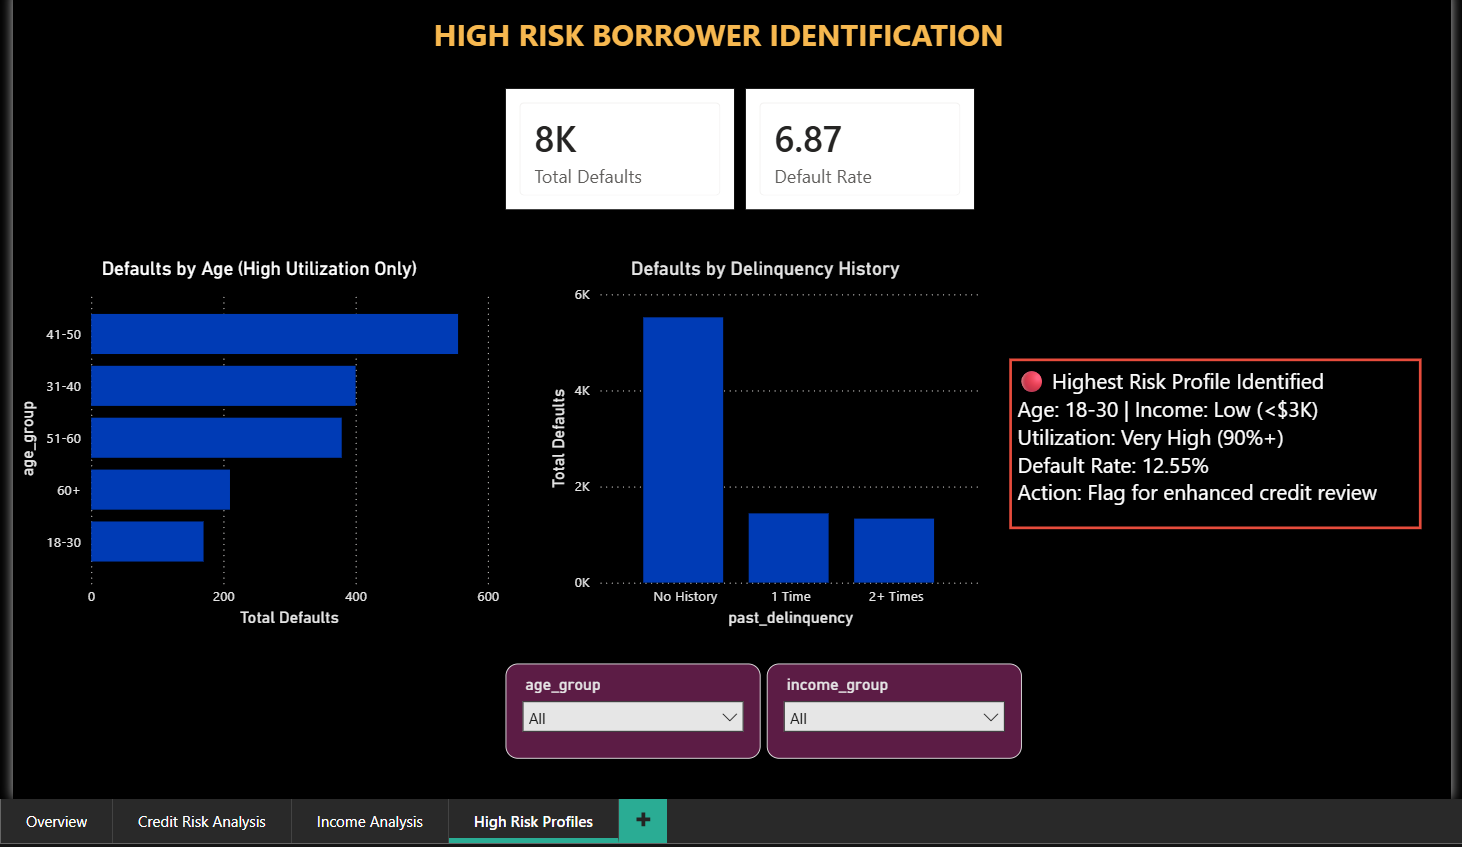

What the dashboard file says about the page in this screenshot:
{"tool":"powerbi","page":{"name":"High Risk Profiles","canvas":[1280,720],"ordinal":3},"visuals":[{"type":"textbox","box":[369.3,16,541.1,56.4],"z":0},{"type":"cardVisual","fields":{"Data":["credit_risk_clean.Total Defaults"]},"box":[433.9,82,213.5,117.8],"z":1},{"type":"cardVisual","fields":{"Data":["credit_risk_clean.Default Rate"]},"box":[647.4,82,213.5,117.8],"z":2},{"type":"clusteredBarChart","title":"Defaults by Age (High Utilization Only)","fields":{"Category":["credit_risk_clean.age_group"],"Y":["credit_risk_clean.Total Defaults"]},"box":[0,236.8,438,333.7],"z":3},{"type":"clusteredColumnChart","title":"Defaults by Delinquency History","fields":{"Category":["credit_risk_clean.past_delinquency"],"Y":["credit_risk_clean.Total Defaults"]},"box":[473.6,236.8,393.9,333.7],"z":4},{"type":"textbox","box":[887.1,327.6,366.9,152.1],"z":5},{"type":"slicer","fields":{"Values":["credit_risk_clean.age_group"]},"box":[438,598.8,227,84.7],"z":6},{"type":"slicer","fields":{"Values":["credit_risk_clean.income_group"]},"box":[671.2,598.8,227,84.7],"z":7}]}

Visuals, with their boxes on the page's 1280x720 design canvas (x1, y1, x2, y2). These are canvas units, not pixel positions in the 1462x847 screenshot, which may show the page scaled, cropped or inside an application window:
textbox: x1=369 y1=16 x2=910 y2=72
cardVisual - credit_risk_clean.Total Defaults: x1=434 y1=82 x2=647 y2=200
cardVisual - credit_risk_clean.Default Rate: x1=647 y1=82 x2=861 y2=200
"Defaults by Age (High Utilization Only)" clusteredBarChart: x1=0 y1=237 x2=438 y2=570
"Defaults by Delinquency History" clusteredColumnChart: x1=474 y1=237 x2=868 y2=570
textbox: x1=887 y1=328 x2=1254 y2=480
slicer - credit_risk_clean.age_group: x1=438 y1=599 x2=665 y2=684
slicer - credit_risk_clean.income_group: x1=671 y1=599 x2=898 y2=684
